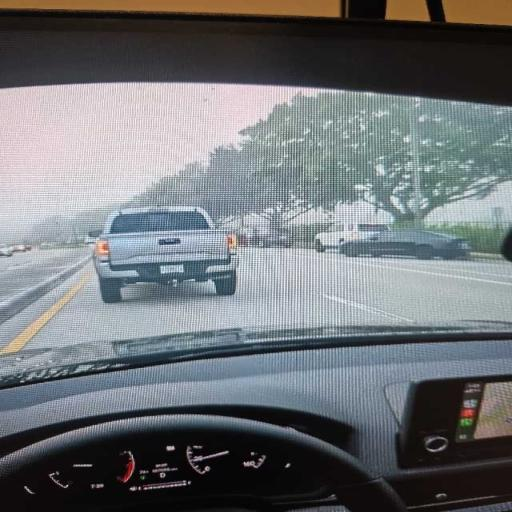car: (0, 10, 511, 511), (340, 229, 471, 259), (314, 222, 388, 252), (260, 230, 292, 247), (12, 244, 30, 252), (0, 247, 12, 256), (84, 236, 96, 244)
lane: (20, 248, 511, 349), (328, 254, 511, 325), (0, 247, 91, 300)
truck: (89, 208, 237, 303)
